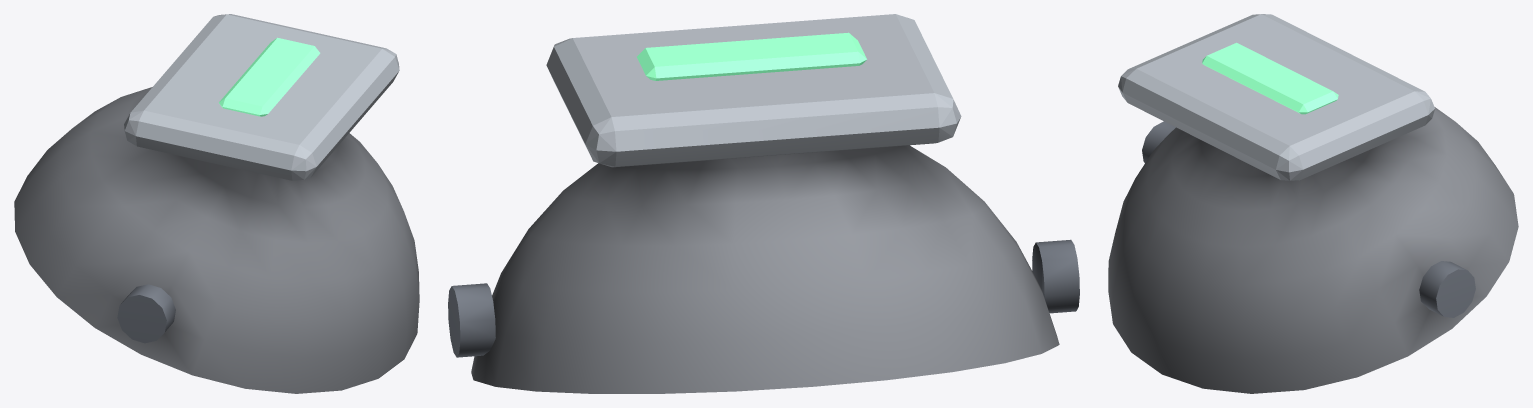
File: welder_head.fbx
3 views of the same model, side by side, from view 1: azimuth 30°, elevation 25°; view 2: azimuth 150°, elevation 25°; view 3: azimuth 270°, elevation 25° (orthographic). The views are drawn at different scales.
Visible parts, largest first — view 1: welder_head; view 2: welder_head; view 3: welder_head.
Part boxes in pixels (box(x1,y1,x2,y2)): welder_head: box(14, 14, 419, 393); welder_head: box(448, 14, 1079, 393); welder_head: box(1108, 14, 1518, 393).
Bounding box in the file's own units: 1.18 × 0.8335 × 1.17.
